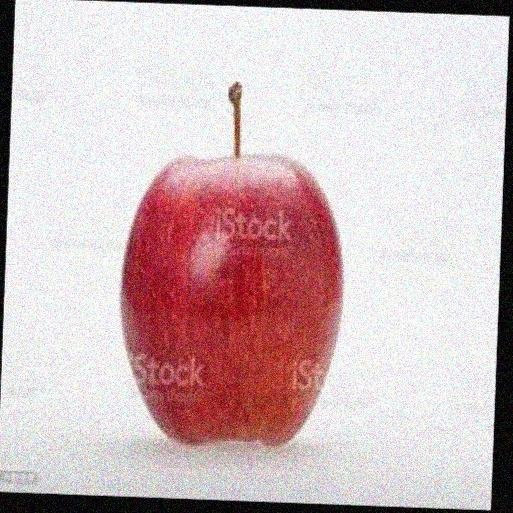red apple: (120, 146, 344, 454)
